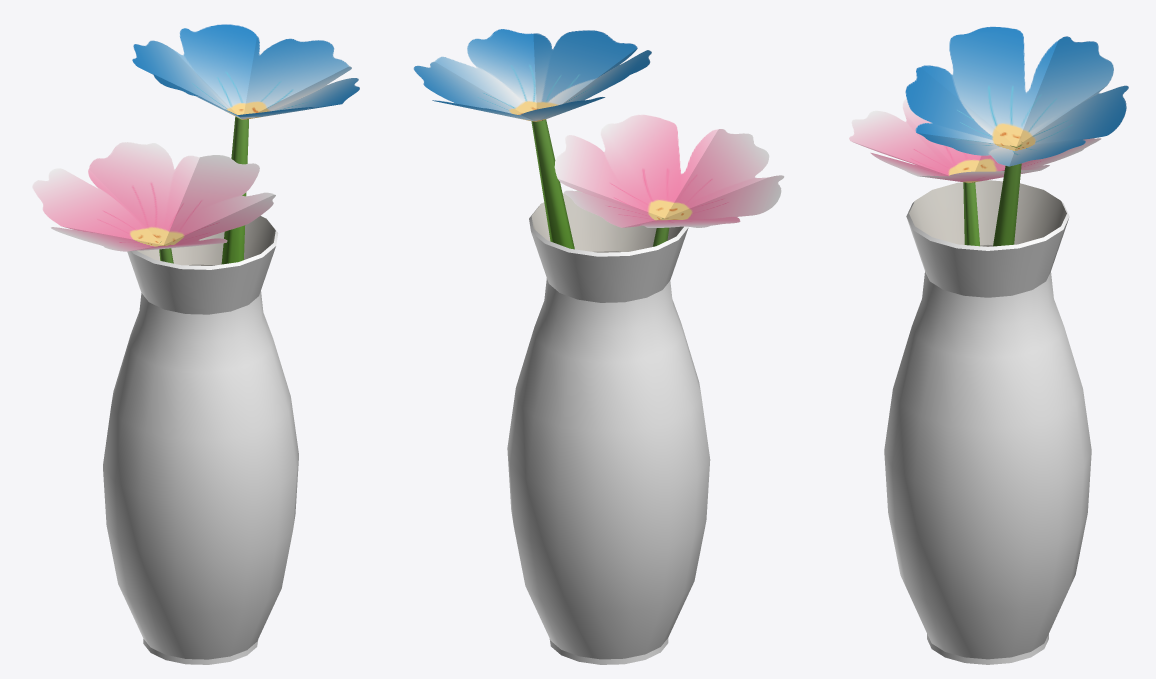
The model's file is SM_VaseWithFlowers.fbx.
The picture shows the model from 3 angles, left to right: view 1: azimuth 30°, elevation 25°; view 2: azimuth 150°, elevation 25°; view 3: azimuth 270°, elevation 25°; orthographic projection. The views are drawn at different scales.
Parts seen in each view (by area): view 1: Cylinder.003, T_Grass_Flower.007, T_Grass_Flower.008; view 2: Cylinder.003, T_Grass_Flower.007, T_Grass_Flower.008; view 3: Cylinder.003, T_Grass_Flower.008, T_Grass_Flower.007.
Boxes of the visible parts, x1=… form: Cylinder.003: x1=103, y1=216, x2=298, y2=664; T_Grass_Flower.007: x1=32, y1=142, x2=275, y2=263; T_Grass_Flower.008: x1=132, y1=24, x2=359, y2=264; Cylinder.003: x1=507, y1=190, x2=710, y2=664; T_Grass_Flower.007: x1=554, y1=114, x2=784, y2=246; T_Grass_Flower.008: x1=413, y1=29, x2=651, y2=249; Cylinder.003: x1=884, y1=180, x2=1091, y2=664; T_Grass_Flower.008: x1=905, y1=26, x2=1128, y2=246; T_Grass_Flower.007: x1=849, y1=98, x2=1101, y2=246.
Bounding box in the file's own units: 0.296 × 0.4508 × 0.2151.
